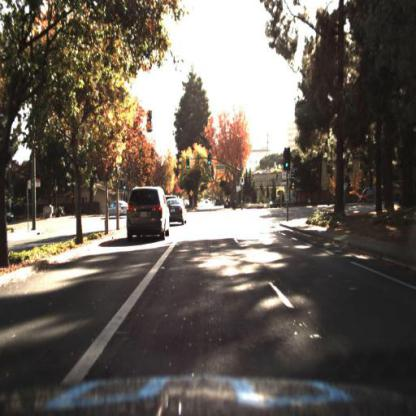car: (127, 185, 171, 243), (168, 198, 187, 227), (169, 196, 187, 224), (106, 201, 127, 224), (108, 200, 129, 223), (359, 186, 380, 207)
trafficLight: (284, 154, 292, 176), (239, 174, 246, 190)
trafficLight-Green: (284, 150, 292, 175), (206, 150, 214, 171), (241, 177, 249, 193), (207, 156, 213, 169), (186, 159, 191, 174)
trafficLight-GreenLeft: (186, 161, 191, 173)
